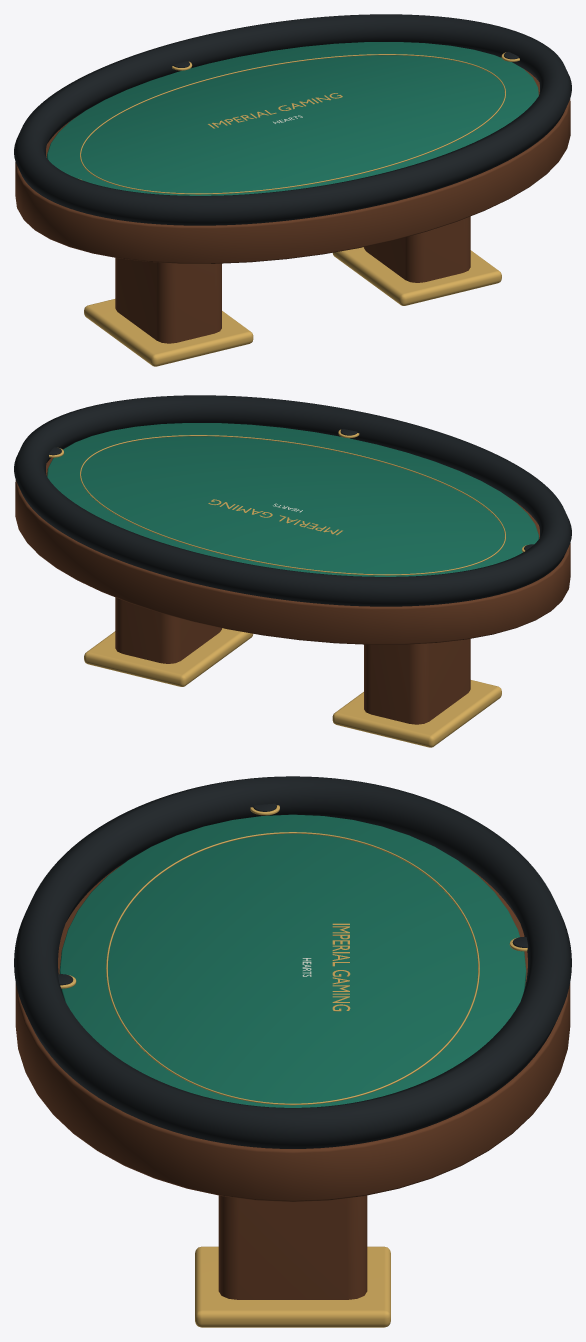
The model's file is Hearts_4.glb.
3 views of the same model, one above another, from view 1: azimuth 30°, elevation 25°; view 2: azimuth 150°, elevation 25°; view 3: azimuth 270°, elevation 25° (orthographic). The views are drawn at different scales.
Parts seen in each view (by area): view 1: Emerald playing surface, Padded perimeter rail, Walnut table cabinet, Pedestal, Pedestal.001, Pedestal brass shoe, Pedestal brass shoe.001, Playing boundary, Brand; view 2: Emerald playing surface, Padded perimeter rail, Walnut table cabinet, Pedestal, Pedestal.001, Pedestal brass shoe, Pedestal brass shoe.001, Playing boundary, Brand; view 3: Emerald playing surface, Padded perimeter rail, Walnut table cabinet, Pedestal.001, Pedestal brass shoe.001, Playing boundary, Brand.
Part boxes in pixels (bbox=[...]): Emerald playing surface: bbox=[47, 42, 538, 195]; Padded perimeter rail: bbox=[14, 14, 571, 225]; Walnut table cabinet: bbox=[15, 69, 570, 263]; Pedestal: bbox=[115, 258, 221, 343]; Pedestal.001: bbox=[364, 216, 470, 282]; Pedestal brass shoe: bbox=[84, 299, 253, 366]; Pedestal brass shoe.001: bbox=[332, 247, 501, 305]; Playing boundary: bbox=[80, 54, 505, 194]; Brand: bbox=[208, 93, 342, 128]; Emerald playing surface: bbox=[47, 423, 538, 576]; Padded perimeter rail: bbox=[14, 395, 571, 606]; Walnut table cabinet: bbox=[15, 457, 570, 644]; Pedestal: bbox=[364, 639, 470, 724]; Pedestal.001: bbox=[115, 597, 221, 663]; Pedestal brass shoe: bbox=[332, 680, 501, 747]; Pedestal brass shoe.001: bbox=[84, 628, 253, 686]; Playing boundary: bbox=[80, 435, 505, 575]; Brand: bbox=[208, 499, 342, 535]; Emerald playing surface: bbox=[59, 814, 526, 1107]; Padded perimeter rail: bbox=[14, 776, 571, 1148]; Walnut table cabinet: bbox=[15, 864, 570, 1201]; Pedestal.001: bbox=[218, 1195, 367, 1299]; Pedestal brass shoe.001: bbox=[195, 1246, 390, 1327]; Playing boundary: bbox=[106, 832, 479, 1105]; Brand: bbox=[332, 923, 350, 1011].
Bounding box in the file's own units: 2.45 × 0.88 × 1.65.
